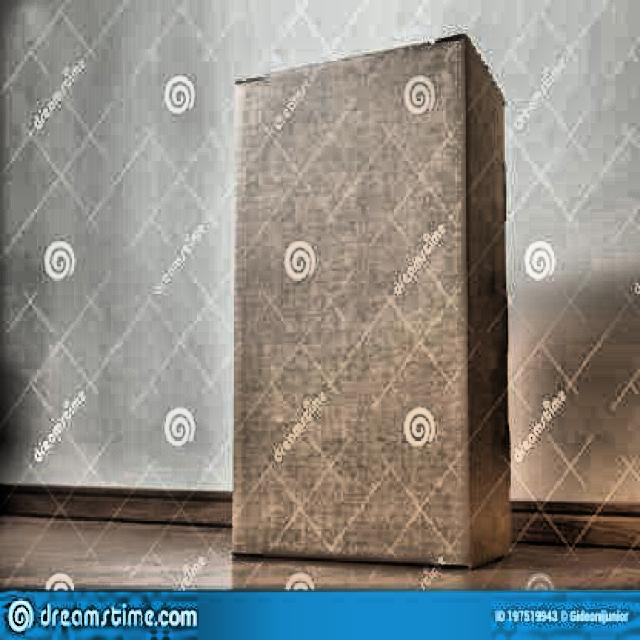Cardbox: (205, 36, 554, 578)
